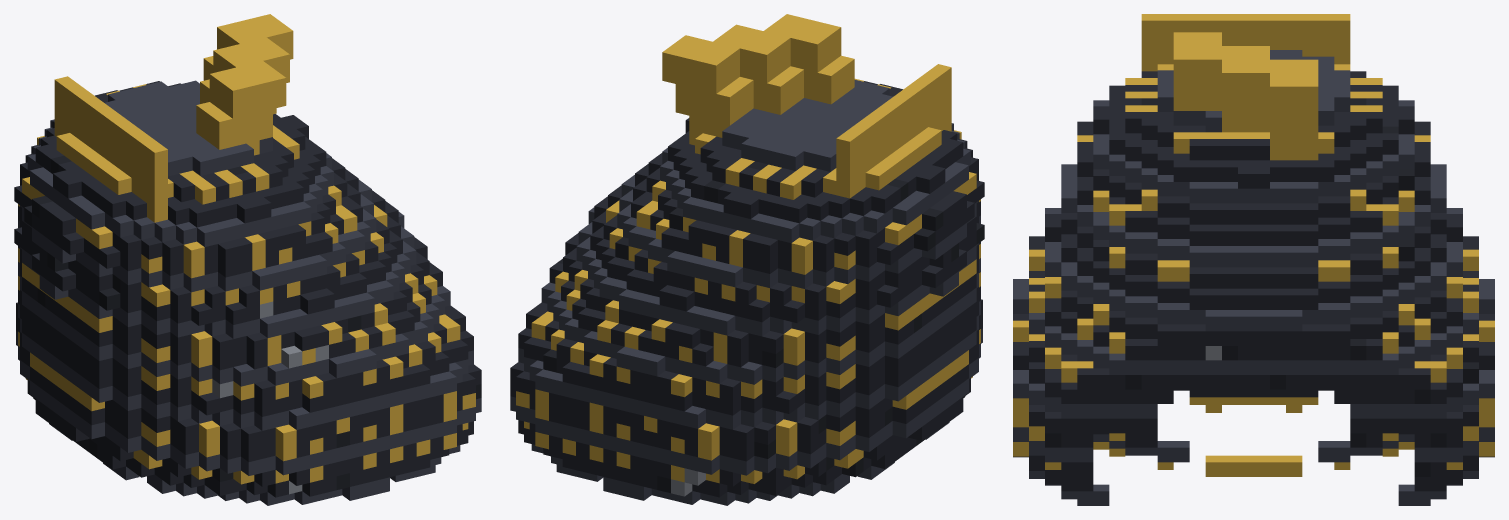
Rendered from scale_legendary_shoulder_L.glb.
3 renders of one model, left to right at view 1: azimuth 30°, elevation 25°; view 2: azimuth 150°, elevation 25°; view 3: azimuth 270°, elevation 25°, orthographic. The views are drawn at different scales.
Visible parts, largest first — view 1: scale_legendary_shoulder_L; view 2: scale_legendary_shoulder_L; view 3: scale_legendary_shoulder_L.
Part boxes in pixels (bbox=[...]): scale_legendary_shoulder_L: bbox=[14, 14, 481, 505]; scale_legendary_shoulder_L: bbox=[510, 14, 984, 505]; scale_legendary_shoulder_L: bbox=[1013, 14, 1494, 505].
Bounding box in the file's own units: 0.3 × 0.312 × 0.36.
